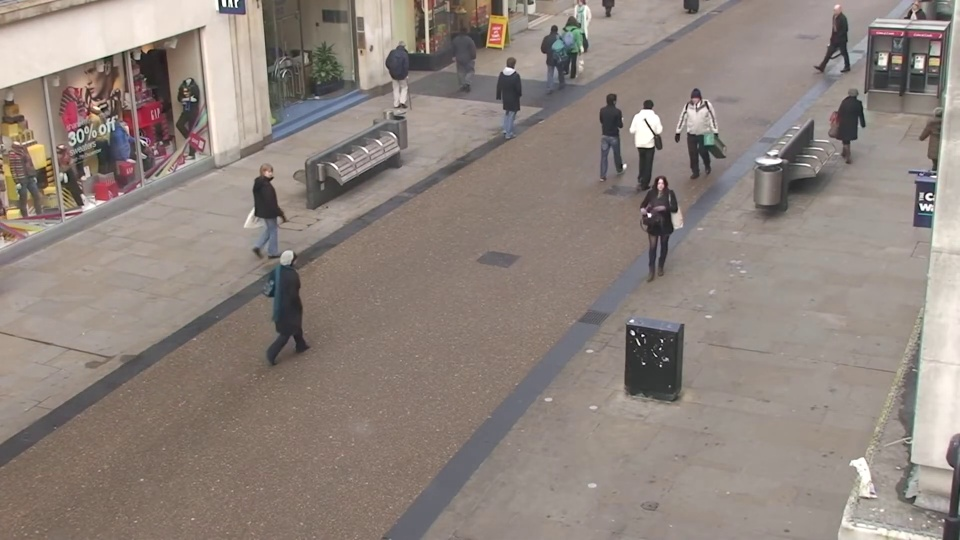pedestrian: (280, 236, 327, 363), (908, 99, 954, 195), (260, 155, 299, 259), (640, 175, 676, 287), (830, 81, 867, 170), (678, 90, 708, 179), (603, 88, 632, 177), (636, 94, 665, 183), (504, 54, 531, 132), (811, 4, 841, 73), (393, 36, 420, 109), (449, 24, 474, 94), (547, 19, 570, 88), (563, 12, 586, 80)
